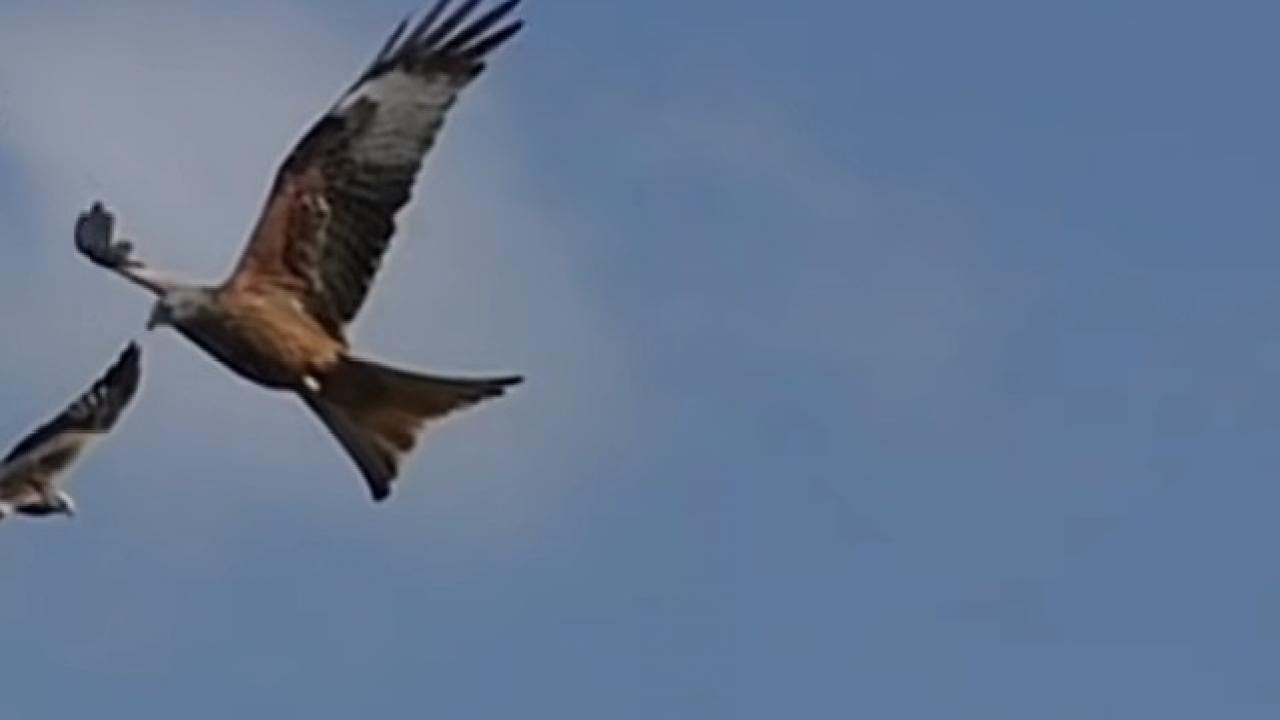Bird: (66, 0, 537, 513)
